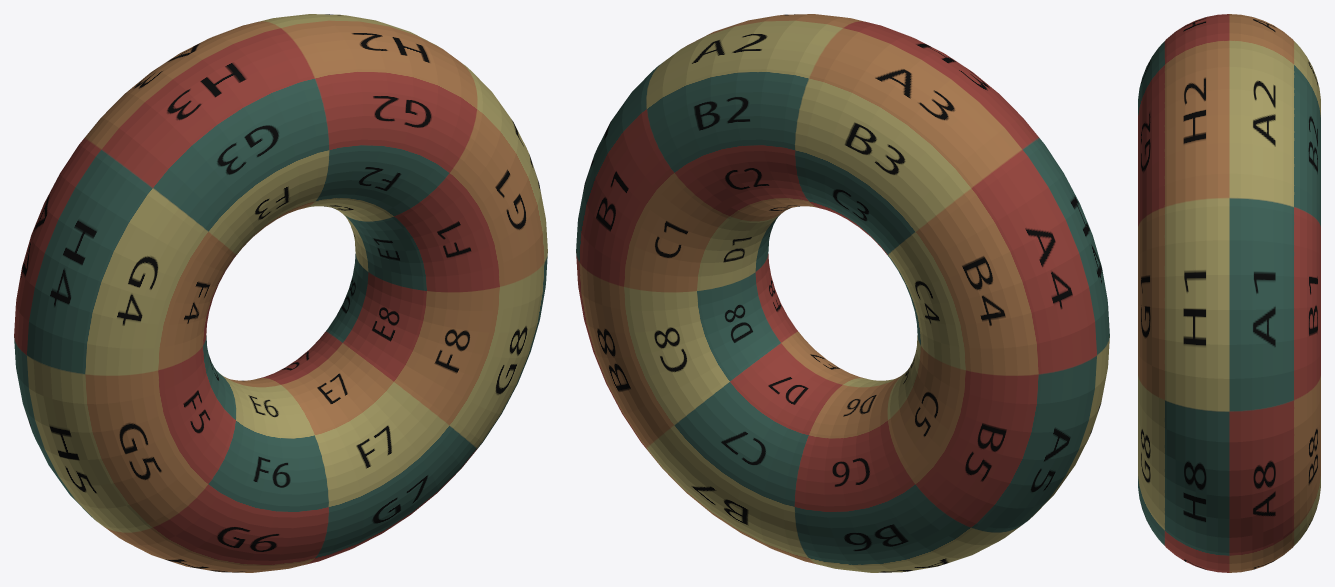
Rendered from texture_torus_R10_r23.glb.
3 renders of one model, left to right at view 1: azimuth 30°, elevation 25°; view 2: azimuth 150°, elevation 25°; view 3: azimuth 270°, elevation 25°, orthographic. The views are drawn at different scales.
Visible parts, largest first — view 1: world; view 2: world; view 3: world.
Boxes of the visible parts, <box> form: world: <box>14,14,547,572</box>; world: <box>576,14,1109,572</box>; world: <box>1138,14,1320,572</box>.
Bounding box in the file's own units: 24.8 × 24.75 × 8.12.
1 material, 1 textured.
